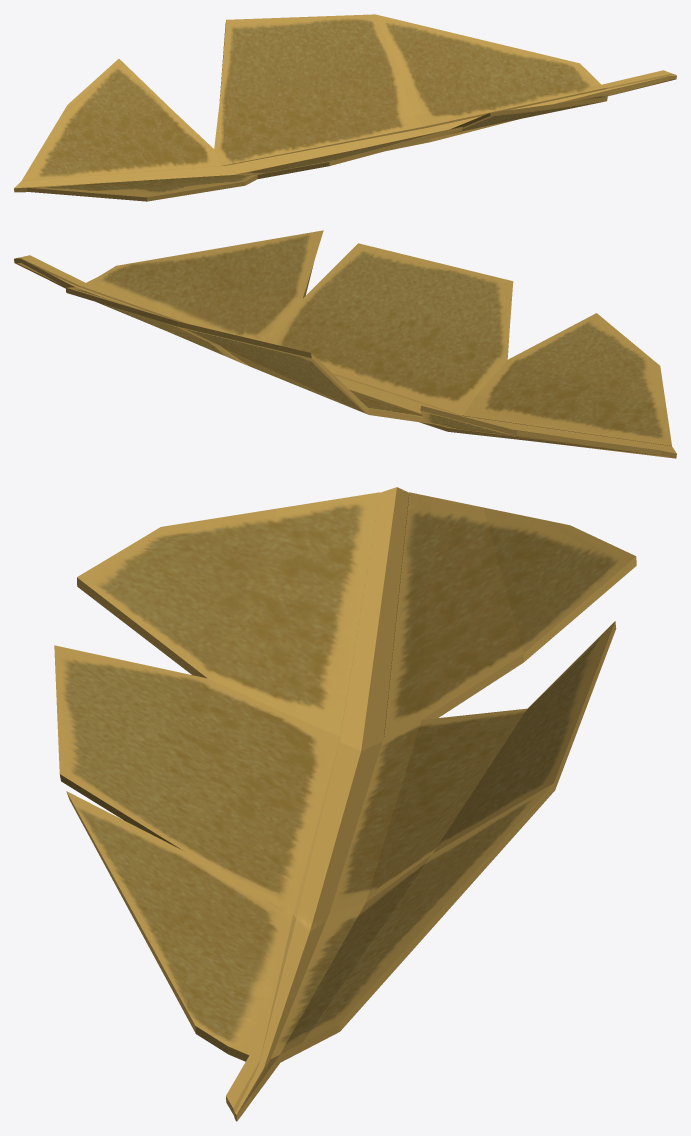
File: Dead_Leaf_03.fbx
The picture shows the model from 3 angles, top to bottom: view 1: azimuth 30°, elevation 25°; view 2: azimuth 150°, elevation 25°; view 3: azimuth 270°, elevation 25°; orthographic projection. The views are drawn at different scales.
Visible parts, largest first — view 1: Dead_Leaf_03; view 2: Dead_Leaf_03; view 3: Dead_Leaf_03.
Boxes of the visible parts, box(x1,y1,x2,y2) form: Dead_Leaf_03: box(14, 14, 676, 201); Dead_Leaf_03: box(14, 230, 676, 458); Dead_Leaf_03: box(54, 487, 636, 1121).
Size of the model in its own units: 241 by 37.01 by 97.4.
